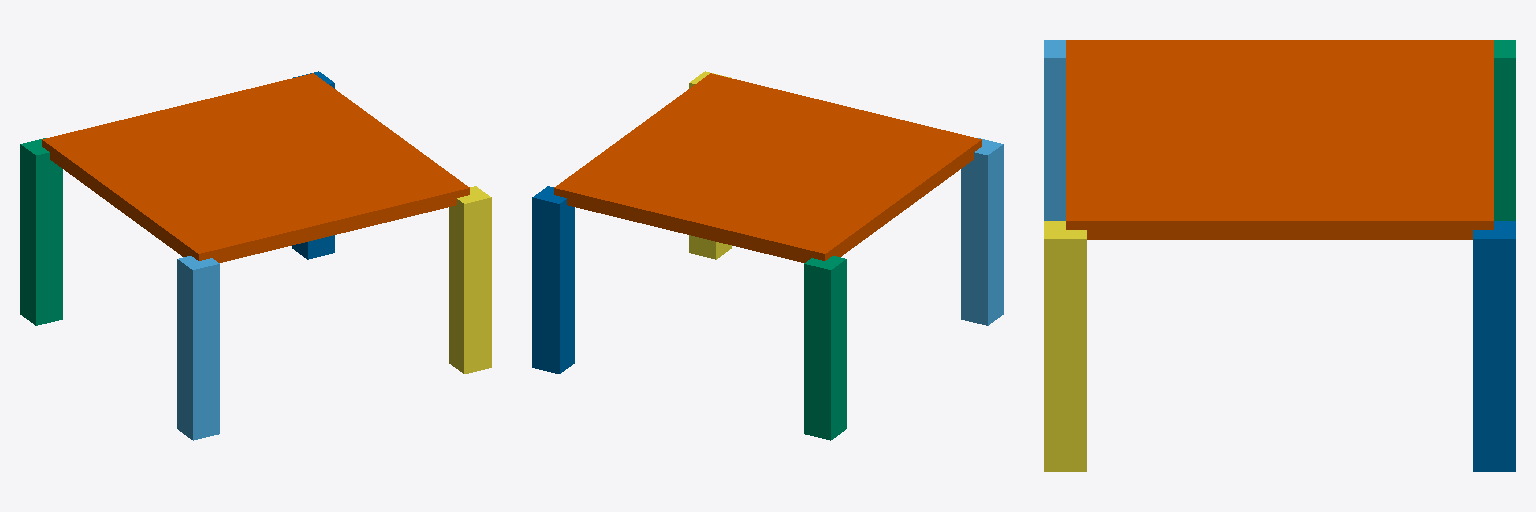
The robot description file, URDF, robot "table":
<?xml version="1.0"?>
<robot name="table">
    <material name="grey">
        <color rgba="0.8 0.8 0.8 1"/>
    </material>

    <link name="table_origin"/>

    <link name="left_front_leg">
        <collision>
            <origin xyz="0 0 0.3"/>
            <geometry>
                <box size="0.1 0.1 0.6"/>
            </geometry>
        </collision>
        <visual>
            <origin xyz="0 0 0.3"/>
            <geometry>
                <box size="0.1 0.1 0.6"/>
            </geometry>
        </visual>
    </link>


    <link name="right_front_leg">
        <collision>
            <origin xyz="0 0 0.3"/>
            <geometry>
                <box size="0.1 0.1 0.6"/>
            </geometry>
        </collision>
        <visual>
            <origin xyz="0 0 0.3"/>
            <geometry>
                <box size="0.1 0.1 0.6"/>
            </geometry>
        </visual>
    </link>


    <link name="left_back_leg">
        <collision>
            <origin xyz="0 0 0.3"/>
            <geometry>
                <box size="0.1 0.1 0.6"/>
            </geometry>
        </collision>
        <visual>
            <origin xyz="0 0 0.3"/>
            <geometry>
                <box size="0.1 0.1 0.6"/>
            </geometry>
        </visual>
    </link>


    <link name="right_back_leg">
        <collision>
            <origin xyz="0 0 0.3"/>
            <geometry>
                <box size="0.1 0.1 0.6"/>
            </geometry>
        </collision>
        <visual>
            <origin xyz="0 0 0.3"/>
            <geometry>
                <box size="0.1 0.1 0.6"/>
            </geometry>
        </visual>
    </link>


    <link name="top">
        <collision>
            <geometry>
                <box size="1 1 0.05"/>
            </geometry>
        </collision>
        <visual>
            <geometry>
                <box size="1 1 0.05"/>
            </geometry>
        </visual>
    </link>


    <joint name="origin_to_left_front_leg" type="fixed">
        <parent link="table_origin"/>
        <child link="left_front_leg"/>
        <origin xyz="-4 0 0"/>
    </joint>

    <joint name="left_front_to_back" type="fixed">
        <parent link="left_front_leg"/>
        <child link="left_back_leg"/>
        <origin xyz="1 0 0"/>
    </joint>

    <joint name="left_front_to_right_front" type="fixed">
        <parent link="left_front_leg"/>
        <child link="right_front_leg"/>
        <origin xyz="0 1 0"/>
    </joint>

    <joint name="left_front_to_right_back" type="fixed">
        <parent link="left_front_leg"/>
        <child link="right_back_leg"/>
        <origin xyz="1 1 0"/>
    </joint>

    <joint name="left_front_leg_to_top" type="revolute">
        <axis xyz="1. 0. 0.0"/>
        <limit effort="10" lower="-0.01" upper="0.01" velocity="10"/>
        <parent link="left_front_leg"/>
        <child link="top"/>
        <origin xyz="0.5 0.5 0.6"/>
    </joint>


</robot>

--- Render facts (derived) ---
3 views of the same robot in one strip: view 1: azimuth 30°, elevation 25°; view 2: azimuth 150°, elevation 25°; view 3: azimuth 270°, elevation 25° (orthographic).
Model table with 6 links and 5 joints (1 revolute, 4 fixed), rooted at table_origin, posed every joint at zero.
Links seen in each view (by area): view 1: top, left_front_leg, left_back_leg, right_front_leg, right_back_leg; view 2: top, right_front_leg, right_back_leg, left_front_leg, left_back_leg; view 3: top, left_back_leg, right_back_leg, left_front_leg, right_front_leg.
Boxes of the visible links, bbox=[...] form: top: bbox=[42, 73, 469, 262]; left_front_leg: bbox=[177, 256, 219, 440]; left_back_leg: bbox=[449, 186, 491, 373]; right_front_leg: bbox=[20, 138, 62, 325]; right_back_leg: bbox=[292, 71, 334, 259]; top: bbox=[554, 73, 981, 262]; right_front_leg: bbox=[804, 256, 846, 440]; right_back_leg: bbox=[532, 186, 574, 373]; left_front_leg: bbox=[961, 138, 1003, 325]; left_back_leg: bbox=[689, 71, 731, 259]; top: bbox=[1066, 40, 1493, 239]; left_back_leg: bbox=[1044, 221, 1086, 471]; right_back_leg: bbox=[1473, 221, 1515, 471]; left_front_leg: bbox=[1044, 40, 1065, 220]; right_front_leg: bbox=[1494, 40, 1515, 220].
Size in the robot's own frame: 1.1 by 1.1 by 0.625 metres.
Geometry: primitives only (box / cylinder / sphere), no mesh files.
